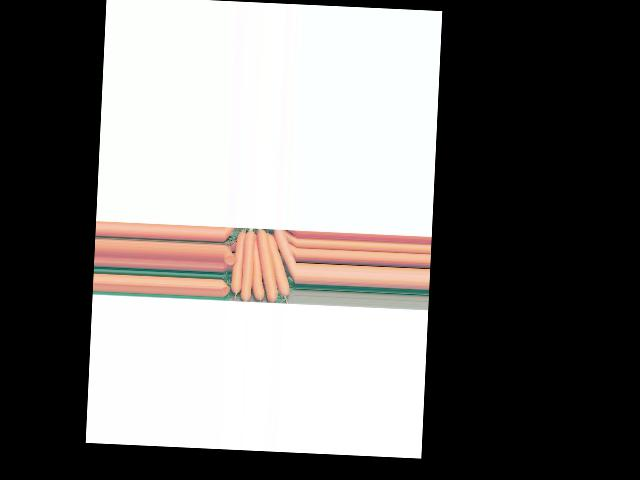carrot: (252, 229, 278, 304)
